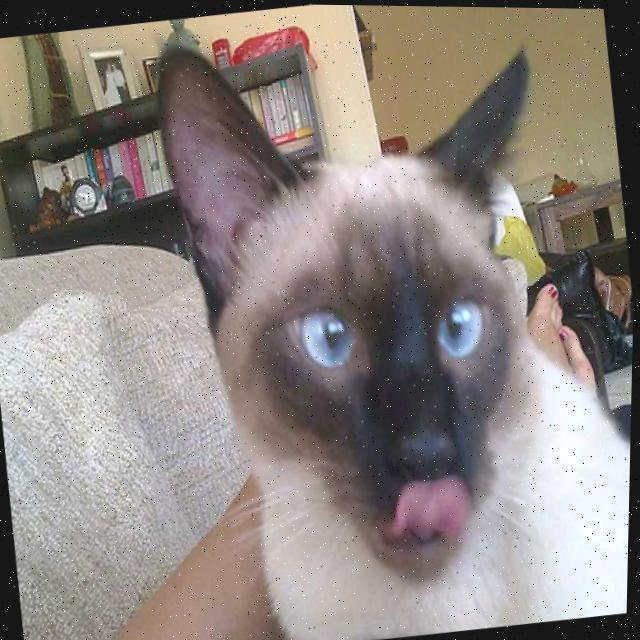Siamese: (135, 2, 640, 640)
